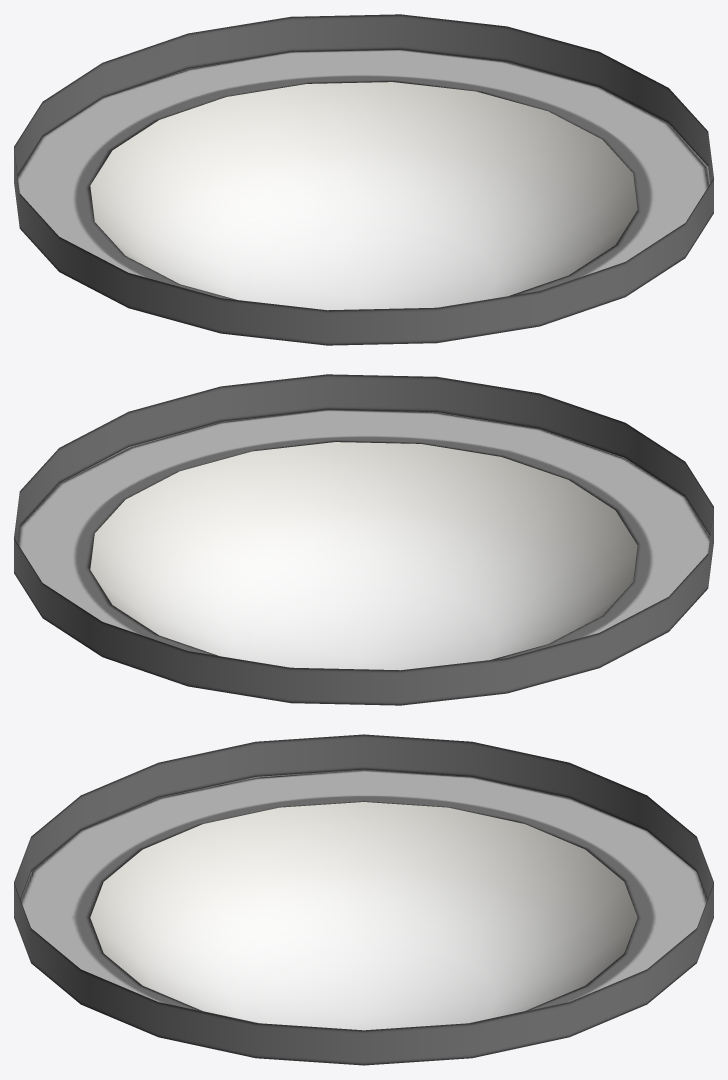
The model's file is light2_on.fbx.
The picture shows the model from 3 angles, top to bottom: view 1: azimuth 30°, elevation 25°; view 2: azimuth 150°, elevation 25°; view 3: azimuth 270°, elevation 25°; orthographic projection.
Parts seen in each view (by area): view 1: polySurface1564; view 2: polySurface1564; view 3: polySurface1564.
Boxes of the visible parts, x1,y1,x2,y2 form: polySurface1564: (14,14,713,345); polySurface1564: (14,374,713,705); polySurface1564: (14,734,713,1065).
Size of the model in its own units: 0.4639 by 0.099 by 0.4639.
